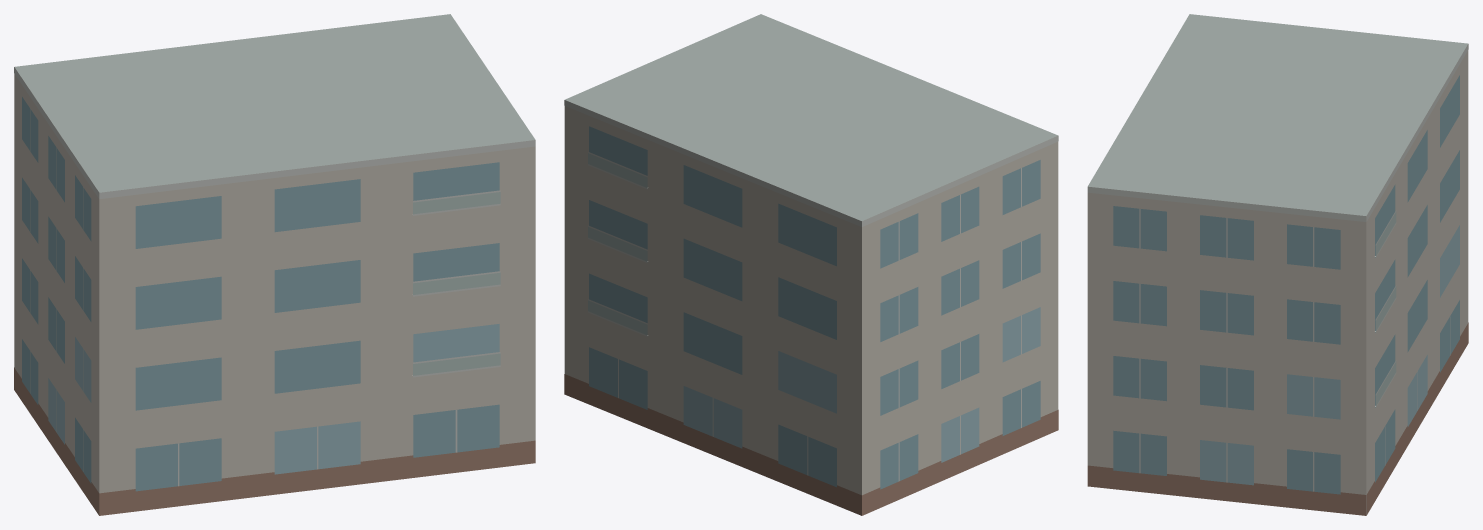
Rendered from residential-ea4cbc74-3bb7-42cc-925a-6ce91ad04a28.glb.
3 views of the same model, side by side, from view 1: azimuth 30°, elevation 25°; view 2: azimuth 150°, elevation 25°; view 3: azimuth 270°, elevation 25° (orthographic). The views are drawn at different scales.
Visible parts, largest first — view 1: residential-ea4cbc74-3bb7-42cc-925a-6ce91ad04a28.tmp; view 2: residential-ea4cbc74-3bb7-42cc-925a-6ce91ad04a28.tmp; view 3: residential-ea4cbc74-3bb7-42cc-925a-6ce91ad04a28.tmp.
Part boxes in pixels (box(x1,y1,x2,y2)): residential-ea4cbc74-3bb7-42cc-925a-6ce91ad04a28.tmp: box(14, 14, 535, 515); residential-ea4cbc74-3bb7-42cc-925a-6ce91ad04a28.tmp: box(564, 14, 1058, 515); residential-ea4cbc74-3bb7-42cc-925a-6ce91ad04a28.tmp: box(1087, 14, 1468, 515).
Size of the model in its own units: 17.65 by 12.2 by 14.06.
